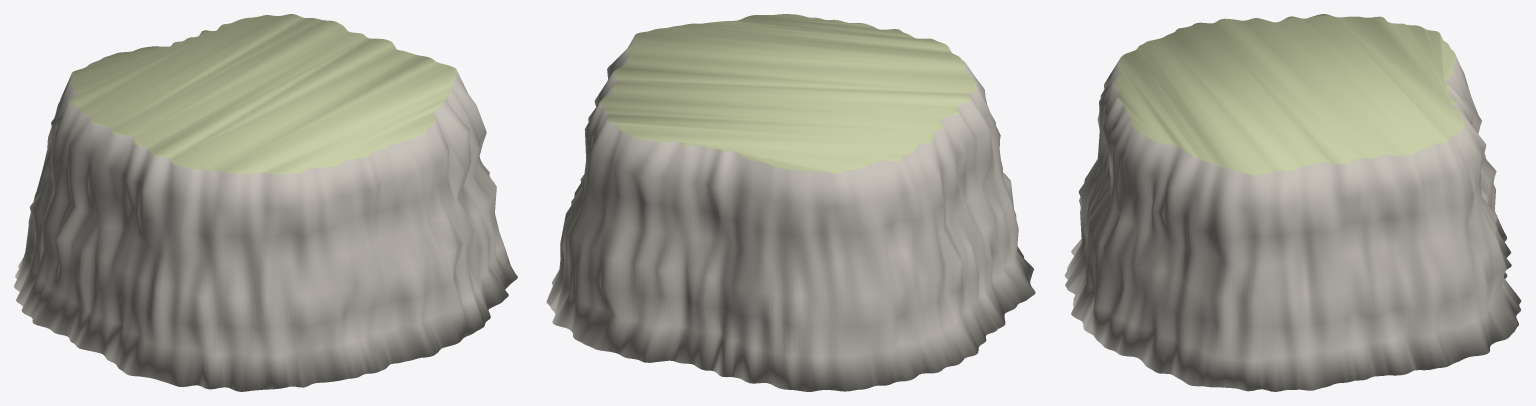
The model's file is cliff_1.glb.
The picture shows the model from 3 angles, left to right: view 1: azimuth 30°, elevation 25°; view 2: azimuth 150°, elevation 25°; view 3: azimuth 270°, elevation 25°; orthographic projection.
Parts seen in each view (by area): view 1: cliff_1; view 2: cliff_1; view 3: cliff_1.
Boxes of the visible parts, <box> form: cliff_1: <box>14,14,517,391</box>; cliff_1: <box>546,14,1035,391</box>; cliff_1: <box>1064,14,1521,391</box>.
Bounding box in the file's own units: 16.03 × 7.04 × 14.88.
